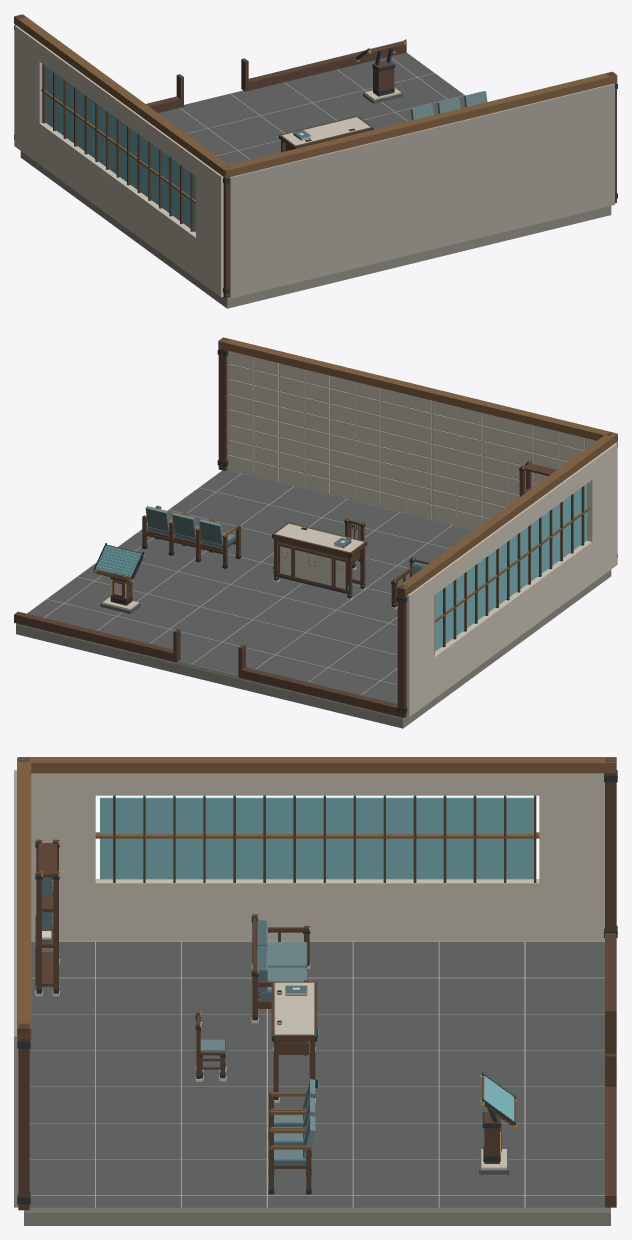
3 renders of one model, top to bottom at view 1: azimuth 30°, elevation 25°; view 2: azimuth 150°, elevation 25°; view 3: azimuth 270°, elevation 25°, orthographic. The views are drawn at different scales.
Visible parts, largest first — view 1: 真实窗洞、木梁与切角房间墙, 分层实心台基与独立石铺面, 展陈介绍牌, 旅游接待办理台, 三席连座与连续倾斜靠背; view 2: 真实窗洞、木梁与切角房间墙, 分层实心台基与独立石铺面, 旅游接待办理台, 三席连座与连续倾斜靠背, 展陈介绍牌, 书架书柜 · 用途材质派生; view 3: 分层实心台基与独立石铺面, 真实窗洞、木梁与切角房间墙, 旅游接待办理台, 三席连座与连续倾斜靠背, 书架书柜 · 用途材质派生, 展陈介绍牌, 沙发软垫靠背, 沙发框架, 餐椅.
Boxes of the visible parts, x1,y1,x2,y2 form: 真实窗洞、木梁与切角房间墙: (14, 14, 617, 298); 分层实心台基与独立石铺面: (20, 52, 611, 308); 展陈介绍牌: (355, 39, 406, 103); 旅游接待办理台: (279, 116, 373, 152); 三席连座与连续倾斜靠背: (409, 91, 487, 120); 真实窗洞、木梁与切角房间墙: (14, 337, 617, 717); 分层实心台基与独立石铺面: (16, 470, 611, 728); 旅游接待办理台: (272, 522, 367, 600); 三席连座与连续倾斜靠背: (142, 505, 241, 568); 展陈介绍牌: (93, 543, 144, 613); 书架书柜 · 用途材质派生: (519, 460, 556, 496); 分层实心台基与独立石铺面: (24, 941, 610, 1225); 真实窗洞、木梁与切角房间墙: (14, 757, 617, 1210); 旅游接待办理台: (271, 981, 318, 1102); 三席连座与连续倾斜靠背: (268, 1079, 315, 1194); 书架书柜 · 用途材质派生: (35, 839, 59, 996); 展陈介绍牌: (479, 1072, 516, 1174); 沙发软垫靠背: (257, 920, 307, 1000); 沙发框架: (251, 914, 310, 1023); 餐椅: (195, 1012, 226, 1081).
Size of the model in its own units: 9.04 by 3.08 by 8.44.
Materials: 25 (25 with a texture image).
